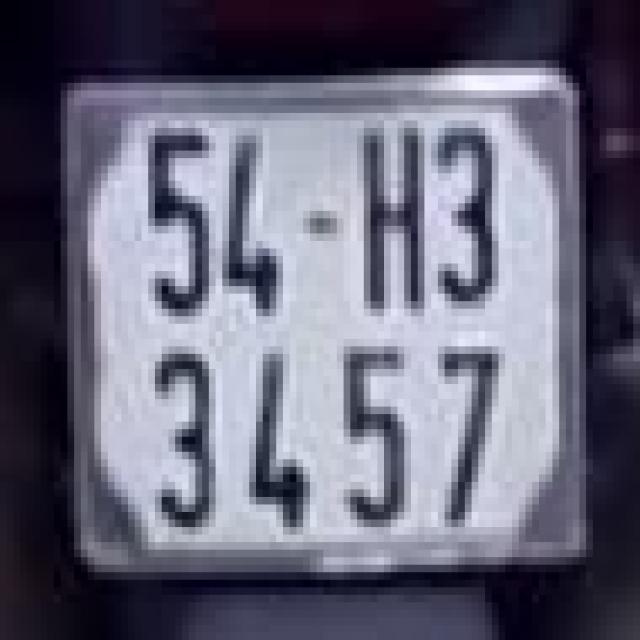3: (148, 350, 222, 531), (434, 124, 502, 305)
4: (222, 132, 283, 320), (249, 350, 310, 538)
5: (142, 124, 216, 320), (340, 343, 414, 523)
7: (438, 335, 512, 531)
H: (353, 120, 428, 316)
